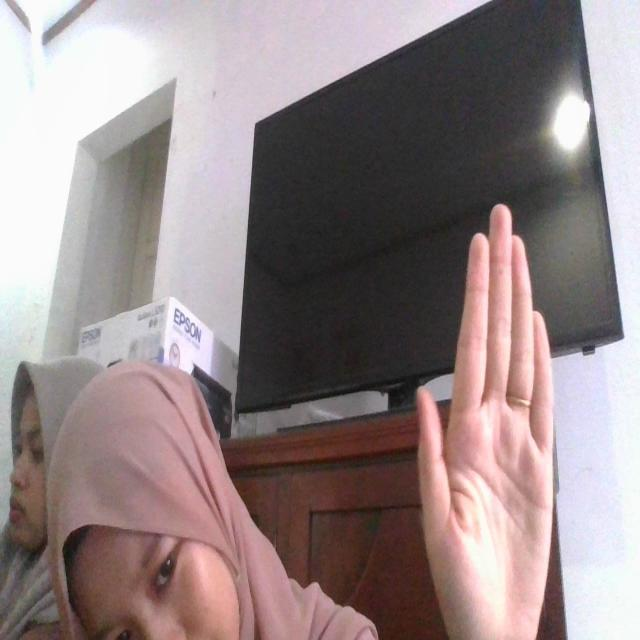hand: (412, 201, 586, 640)
